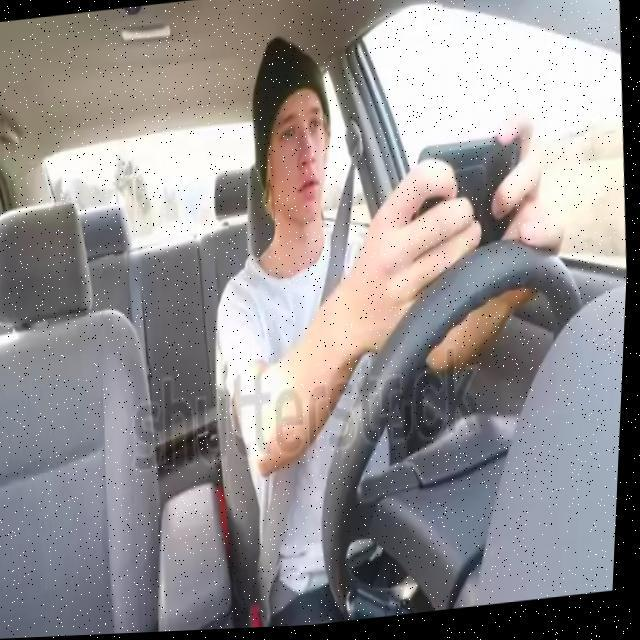PhoneCall: (407, 136, 530, 262)
